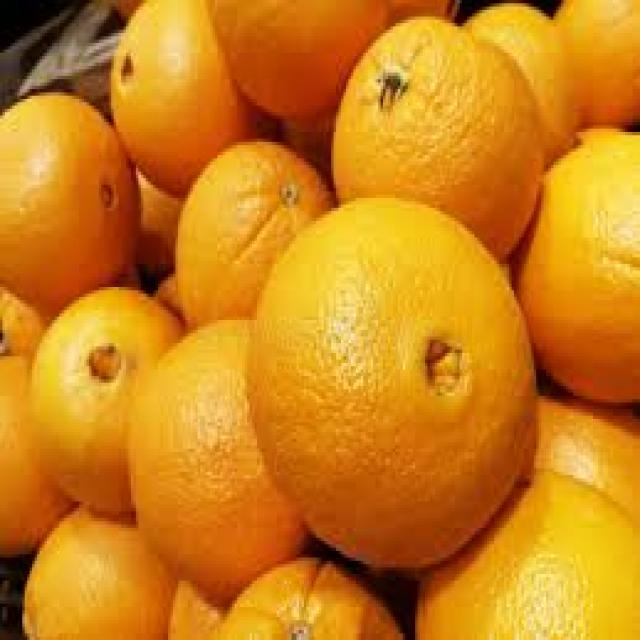Good_Orange: (242, 198, 536, 581), (128, 320, 299, 614), (0, 92, 143, 330)
